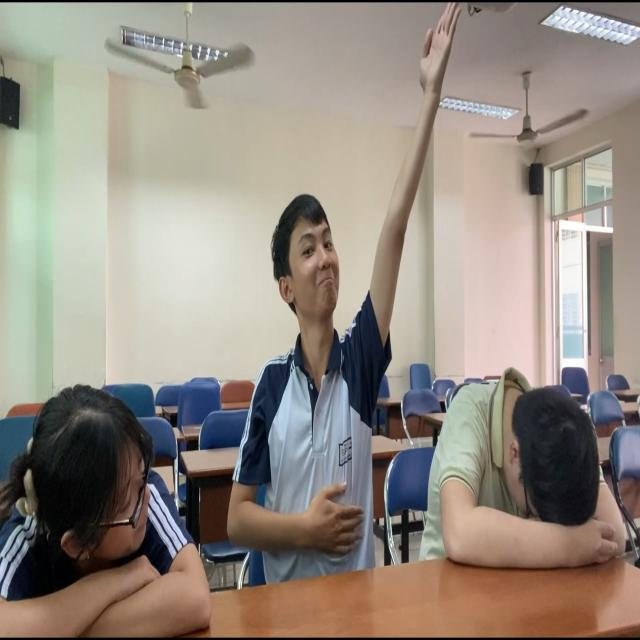raise_hand: (227, 2, 450, 624)
sleep: (1, 376, 191, 640), (440, 366, 633, 572)
